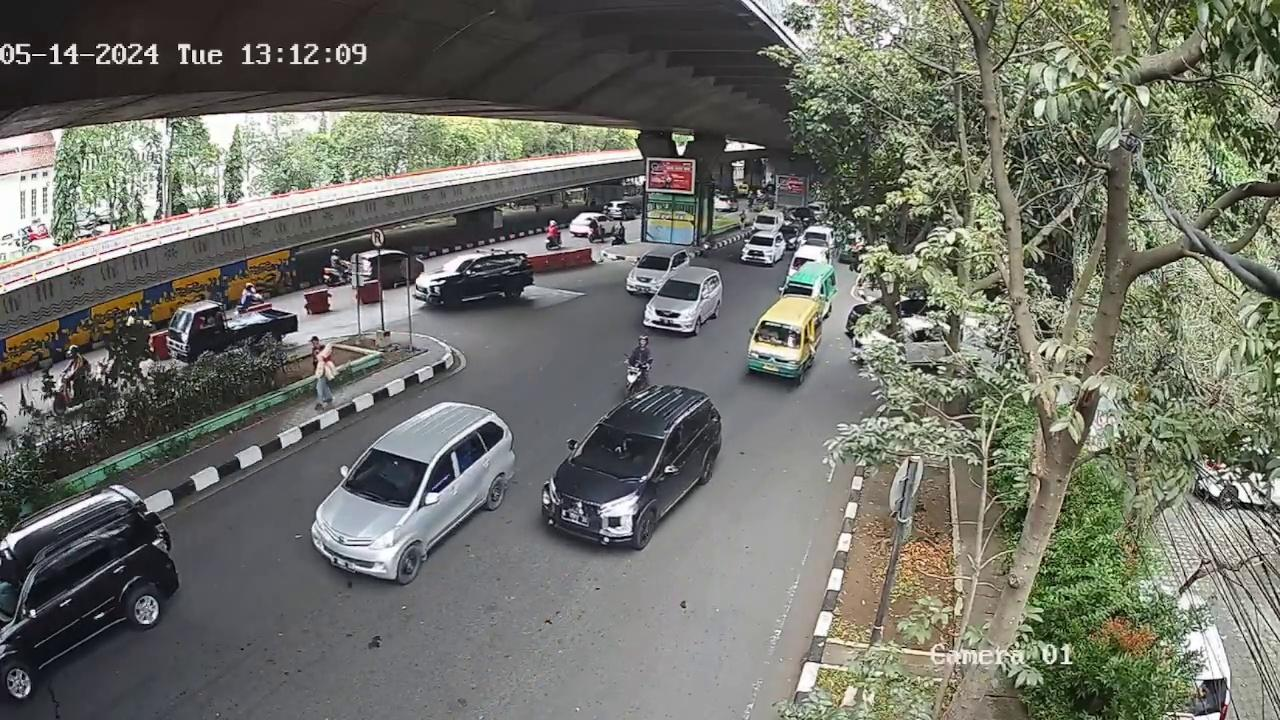tidak-pakai: (379, 456, 414, 491)
windshield: (569, 410, 673, 482), (343, 445, 428, 505)
